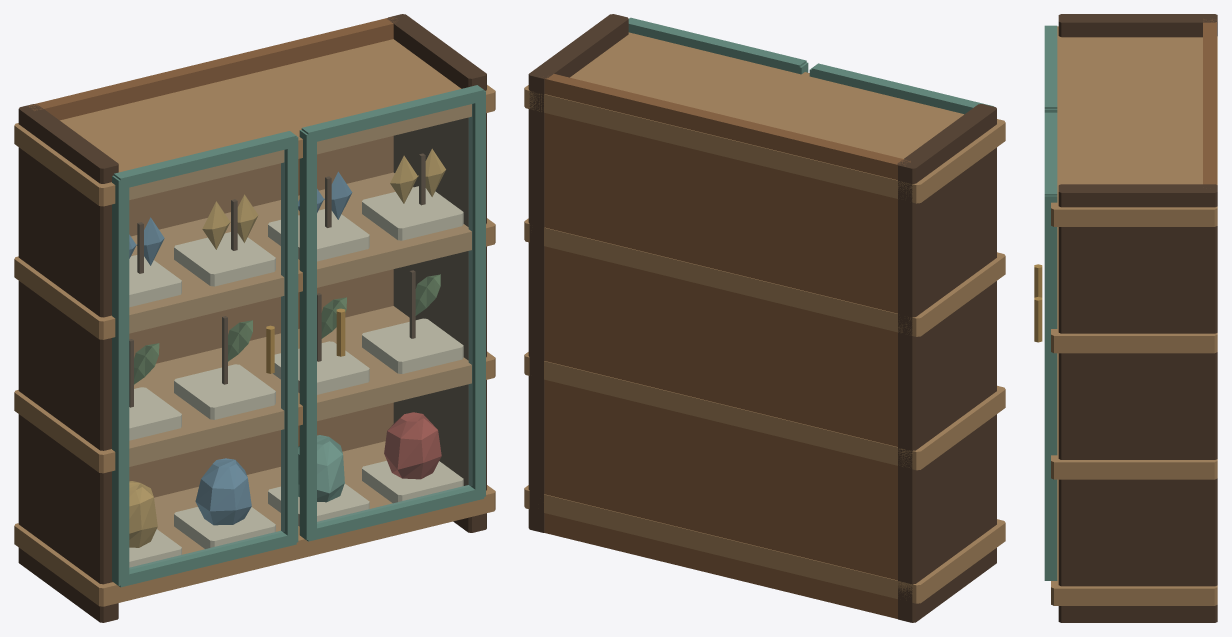
The model's file is cabinet_specimens.glb.
3 renders of one model, left to right at view 1: azimuth 30°, elevation 25°; view 2: azimuth 150°, elevation 25°; view 3: azimuth 270°, elevation 25°, orthographic. The views are drawn at different scales.
Visible parts, largest first — view 1: geometry, glass_doors; view 2: geometry; view 3: geometry.
Boxes of the visible parts, left/top/right/bottom form: geometry: left=14, top=14, right=495, bottom=622; glass_doors: left=130, top=104, right=471, bottom=568; geometry: left=524, top=14, right=1005, bottom=622; geometry: left=1034, top=14, right=1217, bottom=622.
Bounding box in the file's own units: 1.69 × 1.85 × 0.7156.
